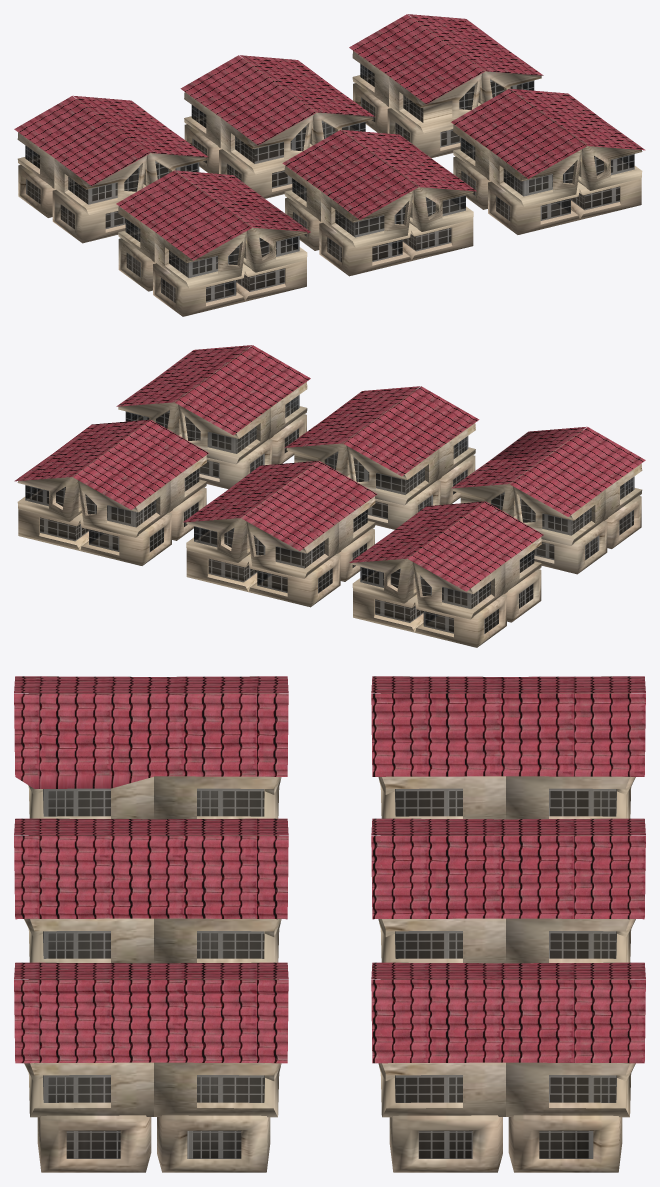
The model's file is House Complex.obj.
The picture shows the model from 3 angles, top to bottom: view 1: azimuth 30°, elevation 25°; view 2: azimuth 150°, elevation 25°; view 3: azimuth 270°, elevation 25°; orthographic projection. The views are drawn at different scales.
Parts seen in each view (by area): view 1: object 2, mesh01; view 2: object 2, mesh01; view 3: object 2, mesh01.
Boxes of the visible parts, <box> form: object 2: <box>14,14,645,316</box>; mesh01: <box>25,64,634,302</box>; object 2: <box>14,345,645,647</box>; mesh01: <box>25,395,634,633</box>; object 2: <box>14,676,645,1172</box>; mesh01: <box>43,788,616,1158</box>.
Size of the model in its own units: 288 by 47.32 by 194.
